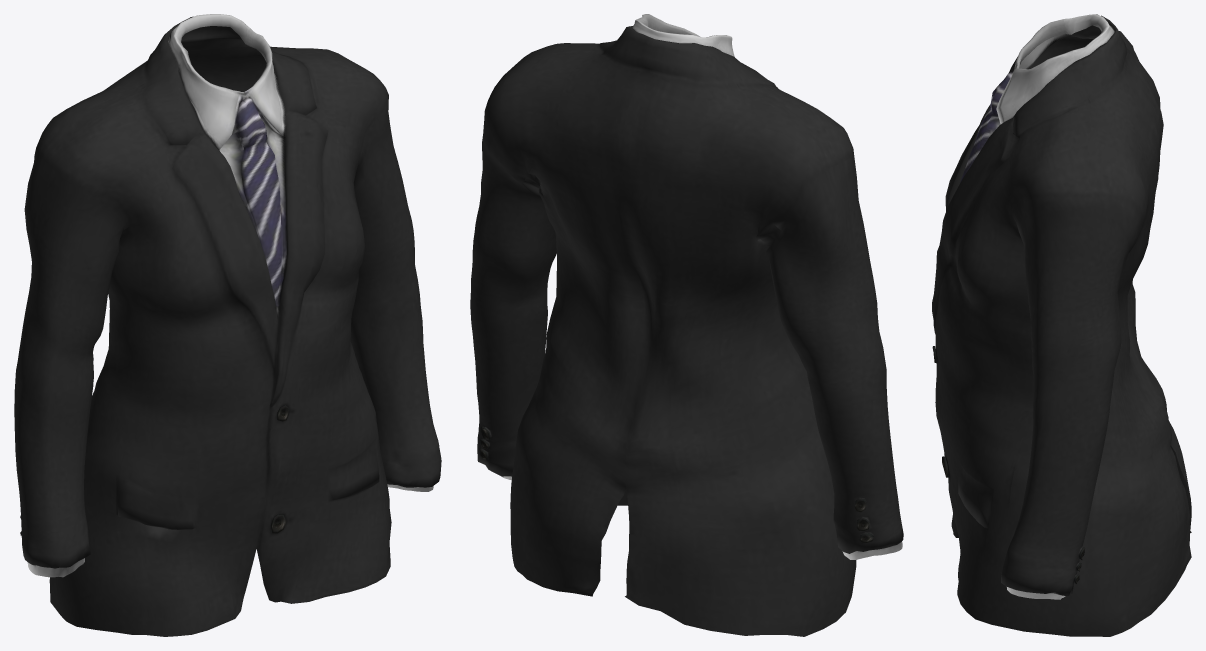
File: outer_suit_blazer.gltf
3 views of the same model, side by side, from view 1: azimuth 30°, elevation 25°; view 2: azimuth 150°, elevation 25°; view 3: azimuth 270°, elevation 25° (orthographic). The views are drawn at different scales.
Visible parts, largest first — view 1: outer_suit_blazer; view 2: outer_suit_blazer; view 3: outer_suit_blazer.
Boxes of the visible parts, left/top/right/bottom form: outer_suit_blazer: left=14, top=14, right=441, bottom=636; outer_suit_blazer: left=470, top=14, right=903, bottom=636; outer_suit_blazer: left=932, top=14, right=1191, bottom=636.
Bounding box in the file's own units: 0.5223 × 0.6803 × 0.2921.
1 material, 1 textured.
